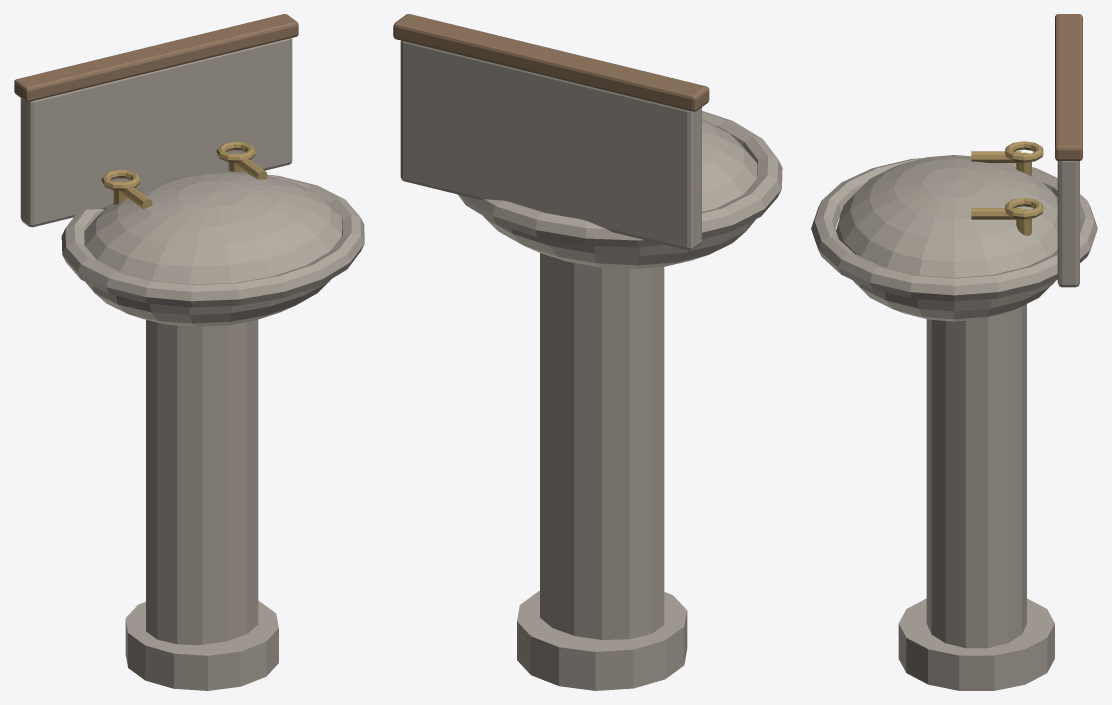
The picture shows the model from 3 angles, left to right: view 1: azimuth 30°, elevation 25°; view 2: azimuth 150°, elevation 25°; view 3: azimuth 270°, elevation 25°; orthographic projection. The views are drawn at different scales.
Parts seen in each view (by area): view 1: basinSink; view 2: basinSink; view 3: basinSink.
Boxes of the visible parts, <box> form: basinSink: <box>14,14,364,690</box>; basinSink: <box>393,14,782,690</box>; basinSink: <box>811,14,1097,690</box>.
Size of the model in its own units: 0.57 by 1.14 by 0.514.
